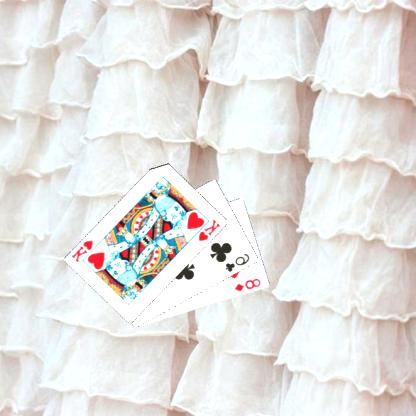6C: (224, 251, 254, 273)
8D: (234, 275, 264, 293)
KH: (198, 216, 224, 243), (71, 237, 96, 264)
